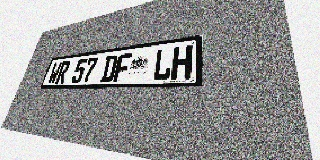5: (71, 59, 88, 83)
7: (81, 57, 99, 83)
D: (100, 55, 119, 82)
F: (113, 53, 132, 82)
H: (171, 45, 193, 80)
L: (152, 47, 173, 80)
R: (55, 61, 71, 84)
W: (47, 62, 62, 84)
